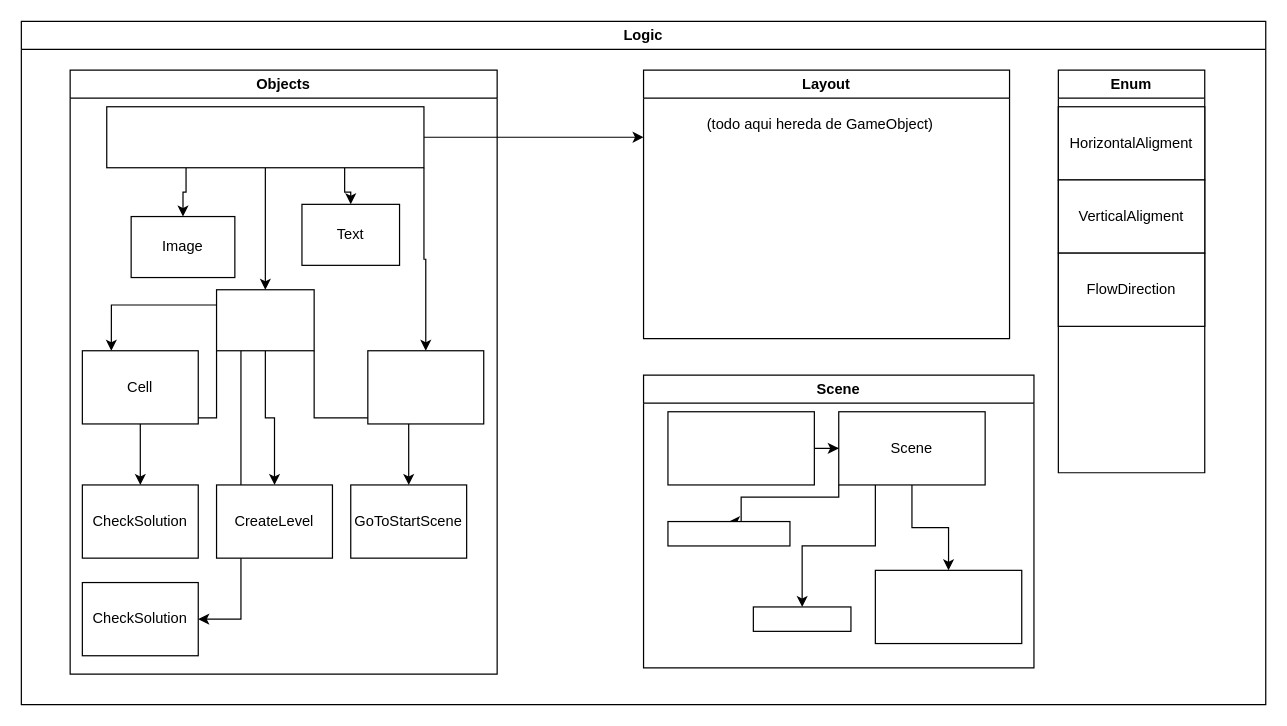
Image size: 1287x726. Some labels were removed from this diagram. Here are the shapes that lost their labels. From the top down, the centre of each, then its label:
(x=265, y=137): GameObject
(x=264, y=320): Button
(x=425, y=387): Table
(x=740, y=448): IScene
(x=728, y=533): StartScene
(x=801, y=618): LevelSelectScene
(x=948, y=606): GameScene
